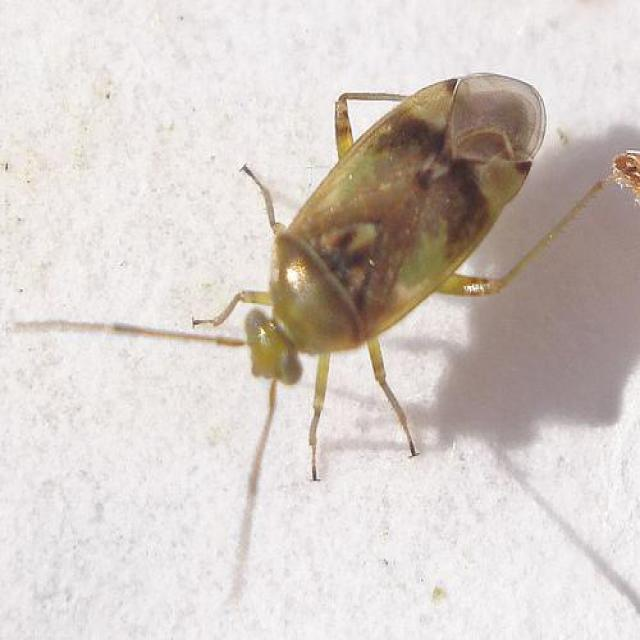Miridae-Adult-: (152, 62, 612, 499)
